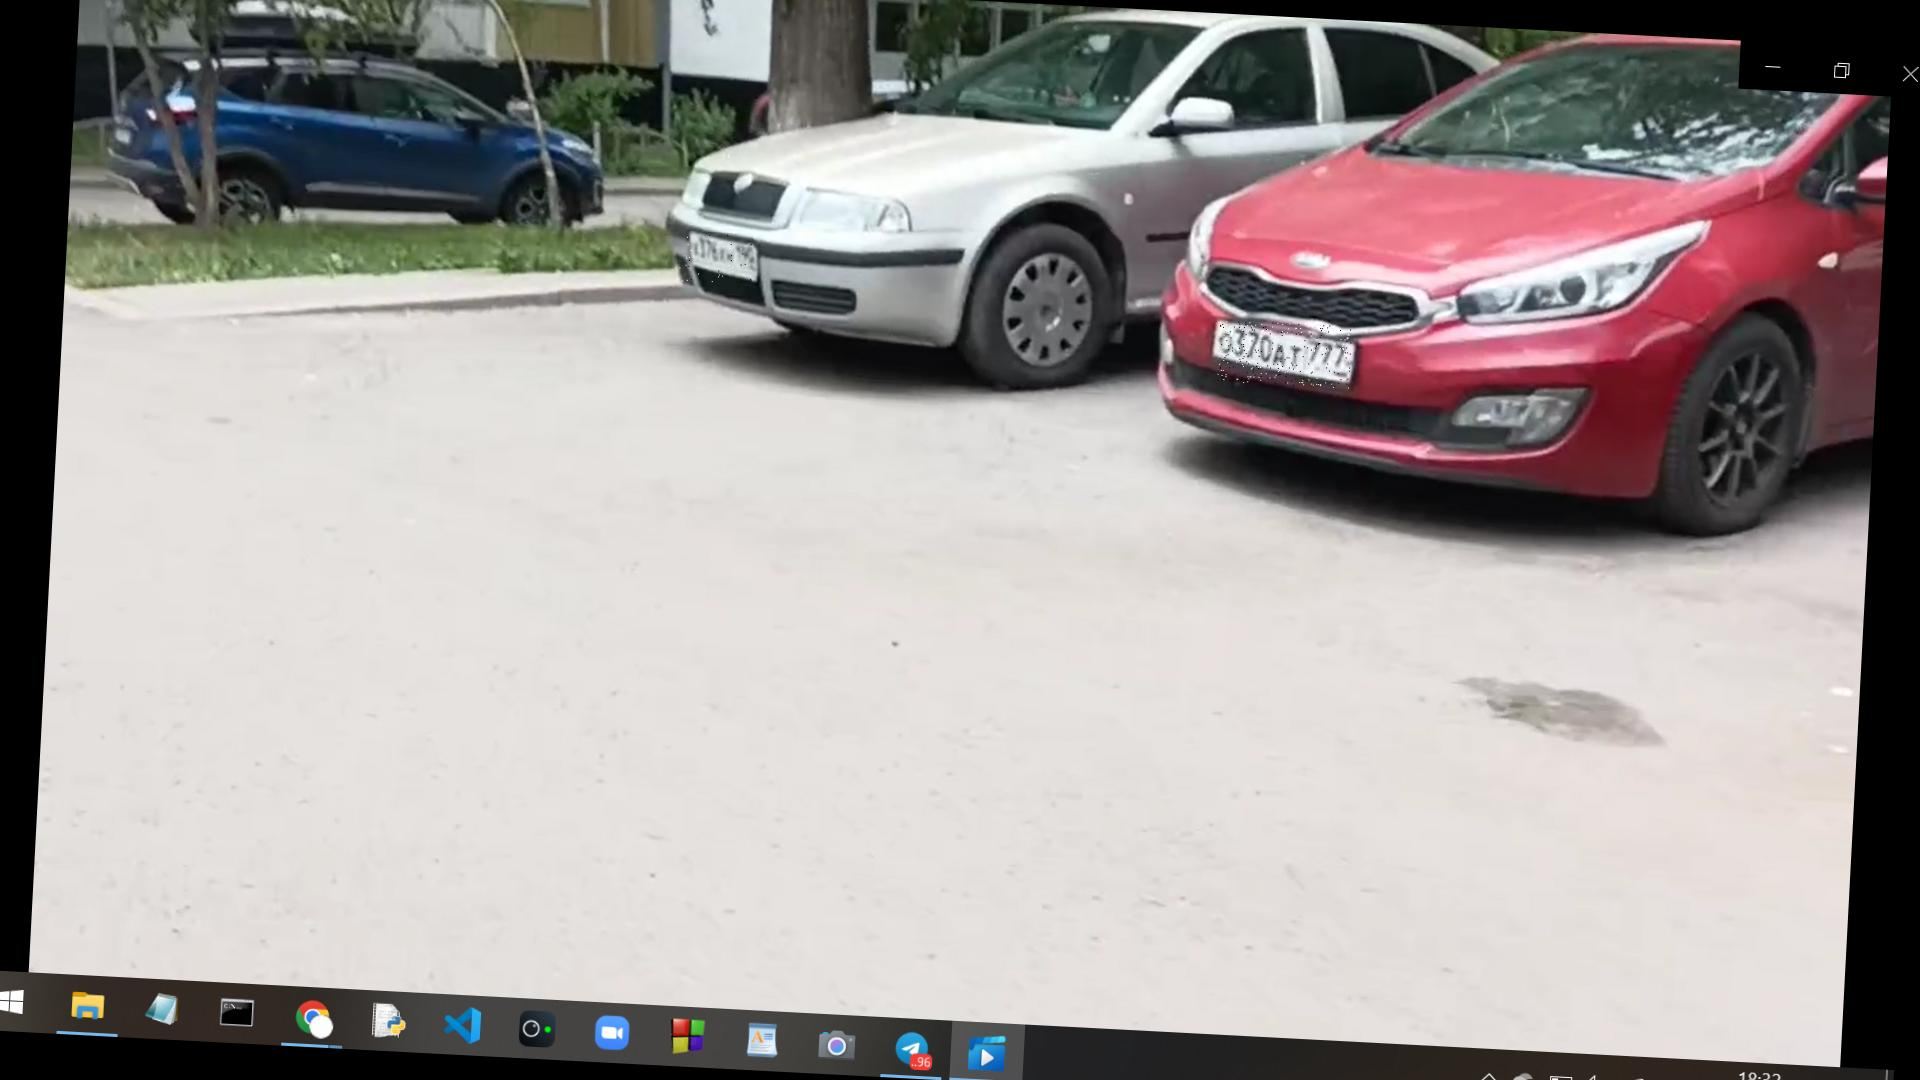plate: (1218, 320, 1353, 389), (676, 232, 756, 287)
